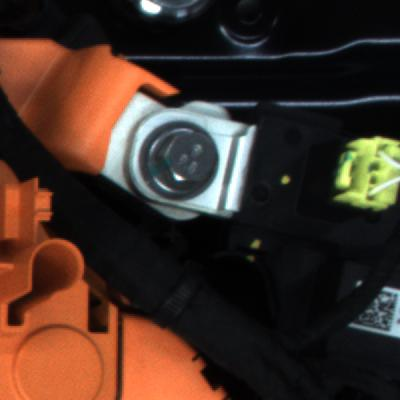nut_b: (131, 118, 230, 207)
